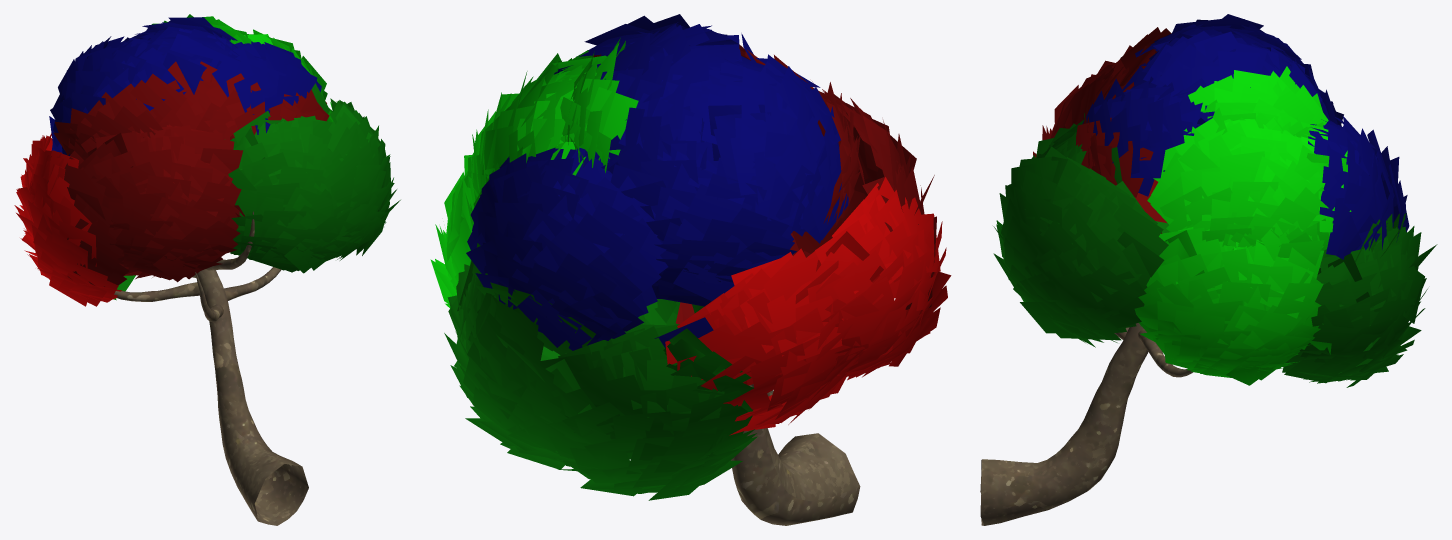
File: StandardTreeCliff_Small_LOD.fbx
3 renders of one model, left to right at view 1: azimuth 30°, elevation 25°; view 2: azimuth 150°, elevation 25°; view 3: azimuth 270°, elevation 25°, orthographic. The views are drawn at different scales.
Visible parts, largest first — view 1: Top_Tree_Cliff_Small_LOD_0, Standar_Trunk_Cliff_Small_LOD_0; view 2: Top_Tree_Cliff_Small_LOD_0, Standar_Trunk_Cliff_Small_LOD_0; view 3: Top_Tree_Cliff_Small_LOD_0, Standar_Trunk_Cliff_Small_LOD_0.
Part boxes in pixels (x1,y1,x2,y2): Top_Tree_Cliff_Small_LOD_0: (14,14,400,306); Standar_Trunk_Cliff_Small_LOD_0: (114,211,308,525); Top_Tree_Cliff_Small_LOD_0: (430,14,951,500); Standar_Trunk_Cliff_Small_LOD_0: (731,384,860,525); Top_Tree_Cliff_Small_LOD_0: (993,14,1437,387); Standar_Trunk_Cliff_Small_LOD_0: (980,323,1192,525).
Size of what is drawn, in the model's own units: 1635 by 1999 by 1687.
